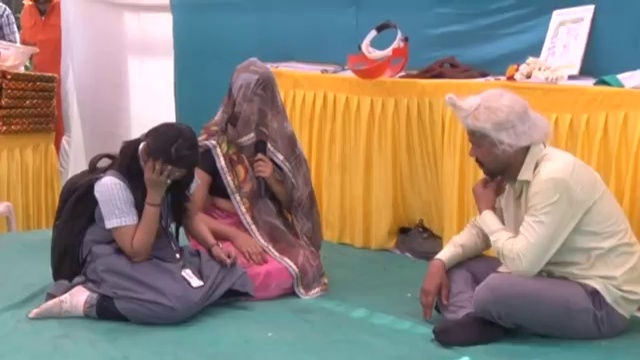helmet: (0, 39, 39, 74)
helmet_off: (450, 96, 544, 179), (126, 121, 198, 192), (223, 62, 282, 135)
person: (411, 81, 640, 336), (32, 117, 231, 315), (188, 61, 322, 301), (17, 0, 61, 83), (1, 1, 17, 44)
